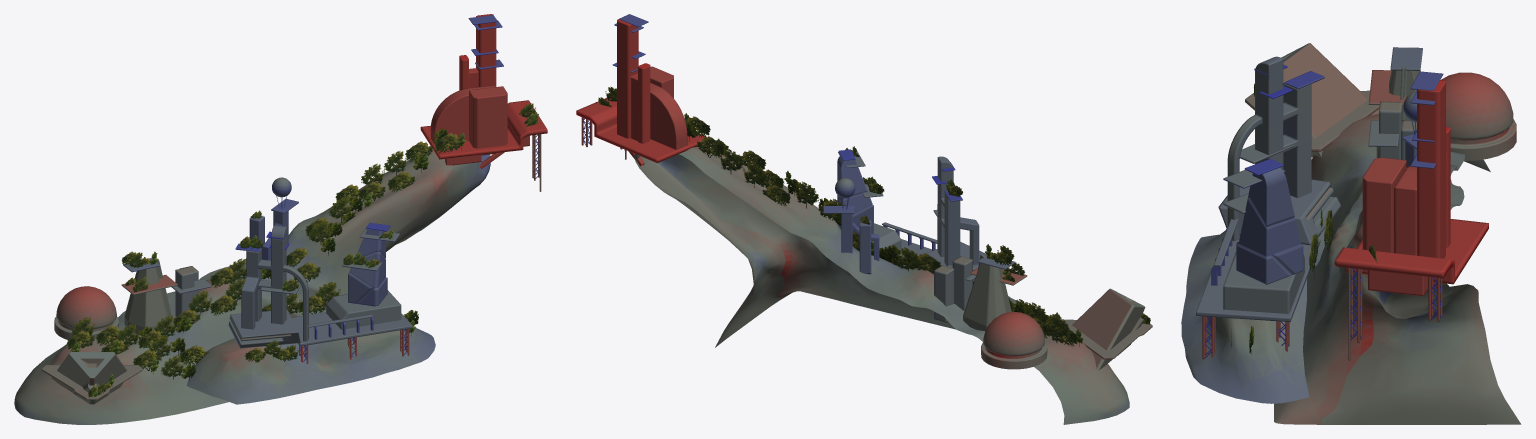
The model's file is 05_02_city_vista.dae.
3 renders of one model, left to right at view 1: azimuth 30°, elevation 25°; view 2: azimuth 150°, elevation 25°; view 3: azimuth 270°, elevation 25°, orthographic. The views are drawn at different scales.
Visible parts, largest first — view 1: terrain_low, buildings, trees; view 2: buildings, terrain_low, trees; view 3: buildings, terrain_low, trees.
Part boxes in pixels (x1,y1,x2,y2): terrain_low: (14, 146, 490, 424); buildings: (41, 14, 547, 404); trees: (67, 103, 540, 397); buildings: (576, 14, 1152, 370); terrain_low: (634, 146, 1129, 424); trees: (596, 86, 1150, 346); buildings: (1196, 43, 1516, 360); terrain_low: (1181, 114, 1521, 424); trees: (1231, 83, 1377, 354).
Size of the model in its own units: 839 by 419 by 301.
